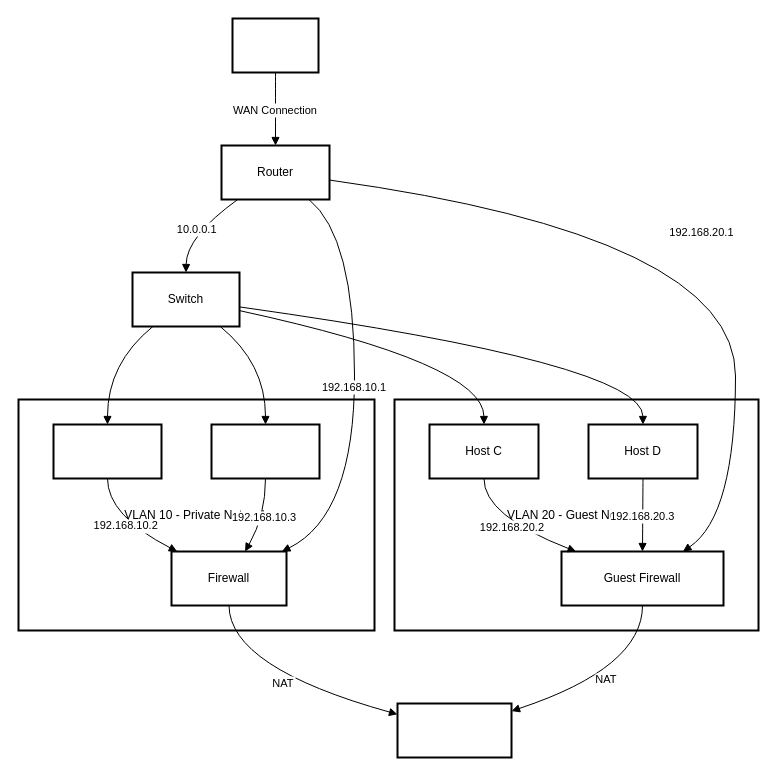
The diagram is 776 pixels wide and 775 high, and some of its shapes have lost their labels. Here are the shapes that lost their labels. From the top down, the centre of each, then its label:
At point (275, 45): "ISP".
At point (107, 451): "Host A".
At point (265, 451): "Host B".
At point (454, 730): "Internet".
